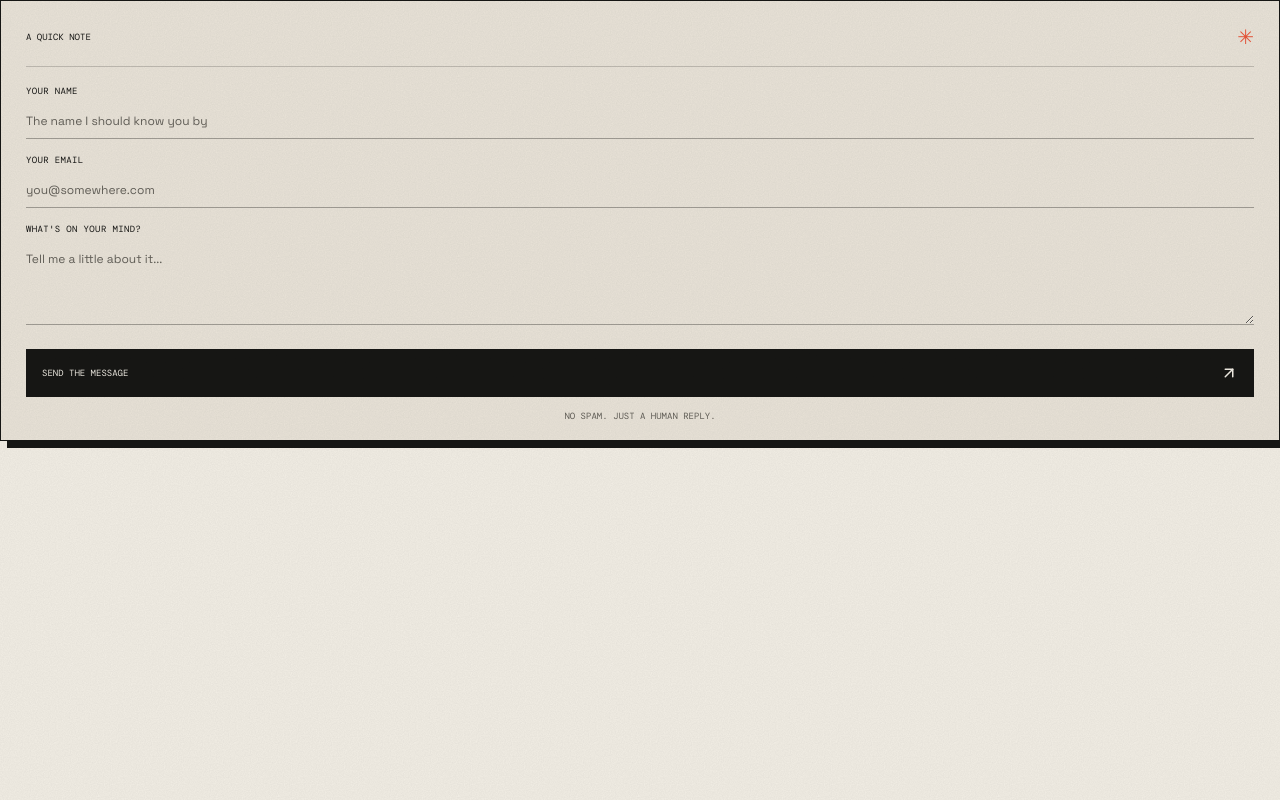
Test: ContactForm › clears a field's error as soon as it's fixed
Click the button "SEND THE MESSAGE" at (85, 373), box [26, 349, 1254, 397]
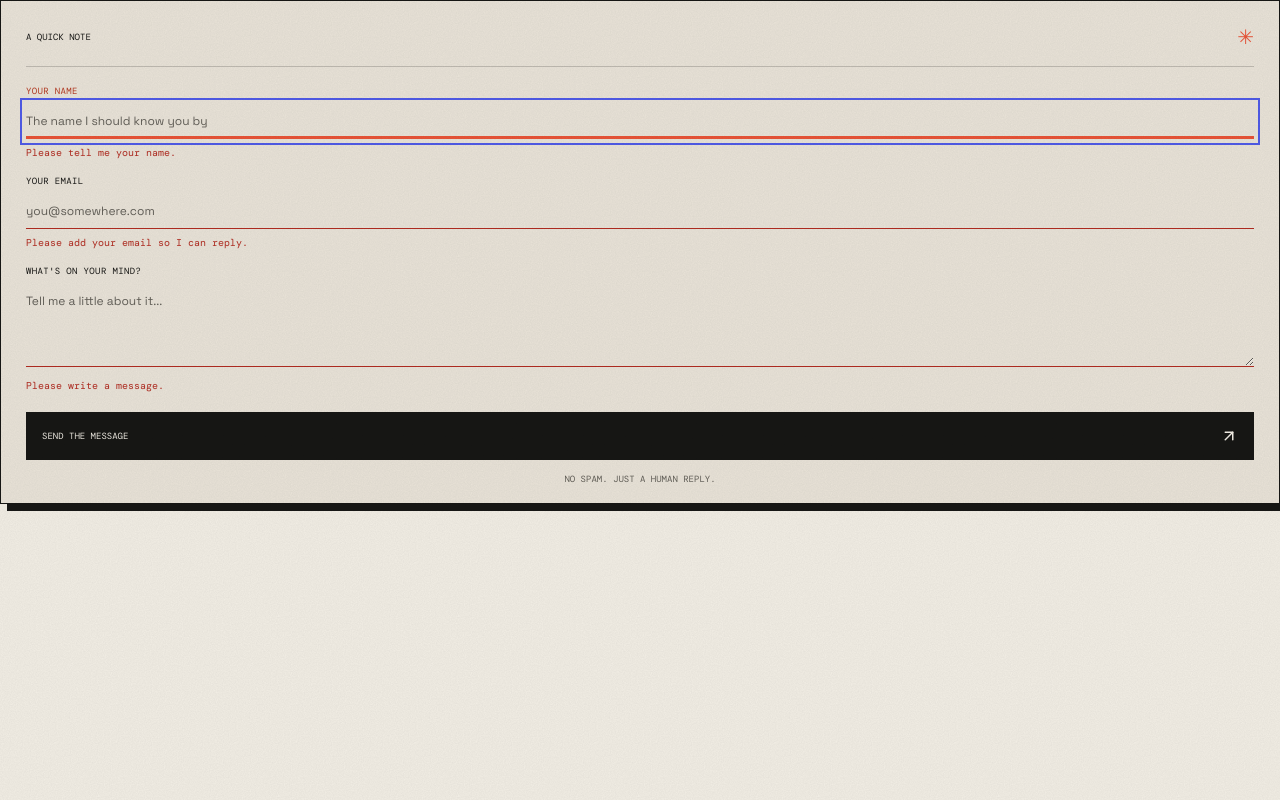
Type "Ada" into the field labelled "YOUR NAME" at (640, 122), box [26, 104, 1254, 139]
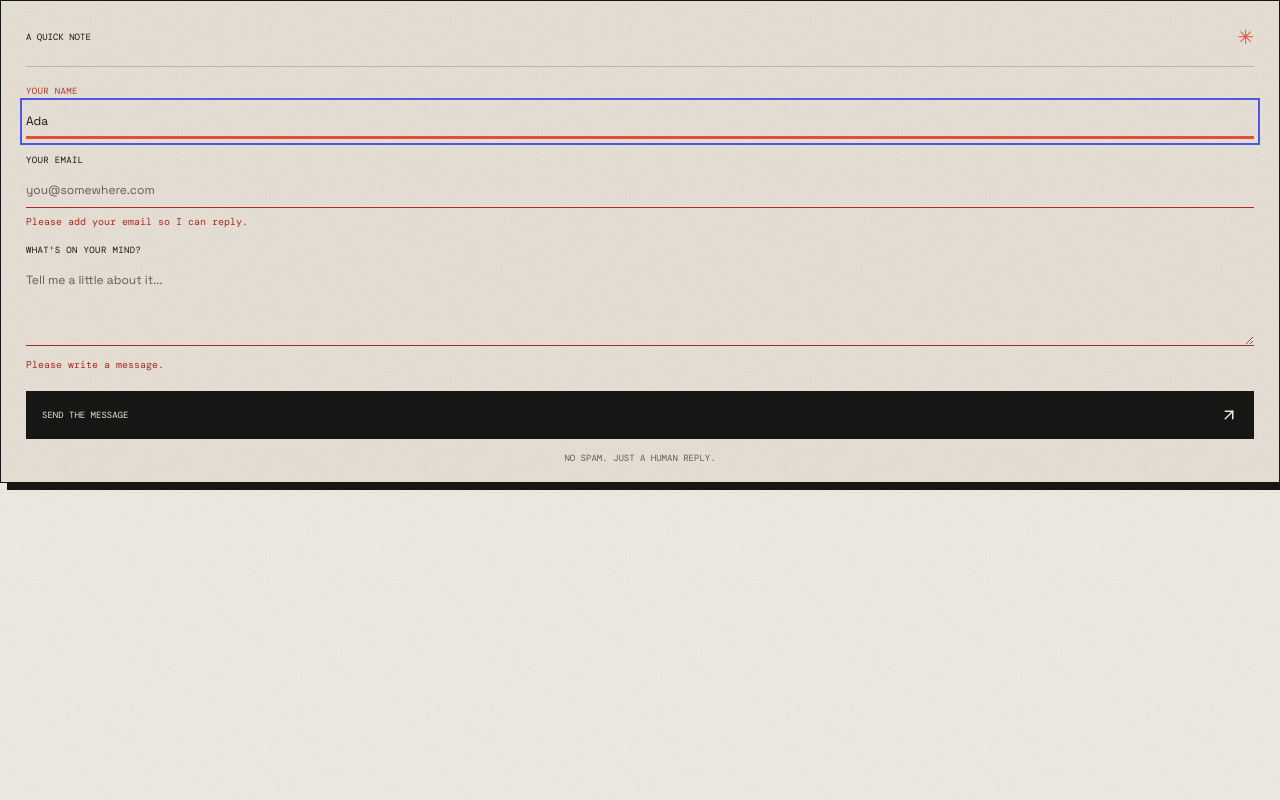
Expected: the text "Please tell me your name." is gone
